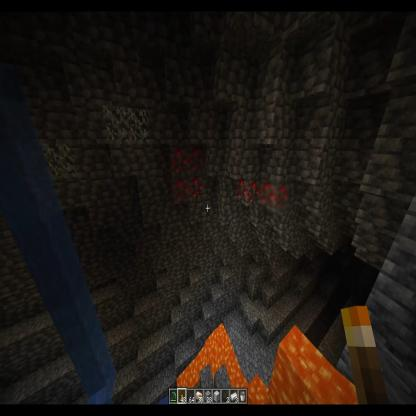redstone ore: (258, 180, 291, 213), (235, 175, 258, 210), (168, 145, 190, 178), (190, 142, 206, 176), (171, 177, 190, 204), (190, 175, 206, 201)
